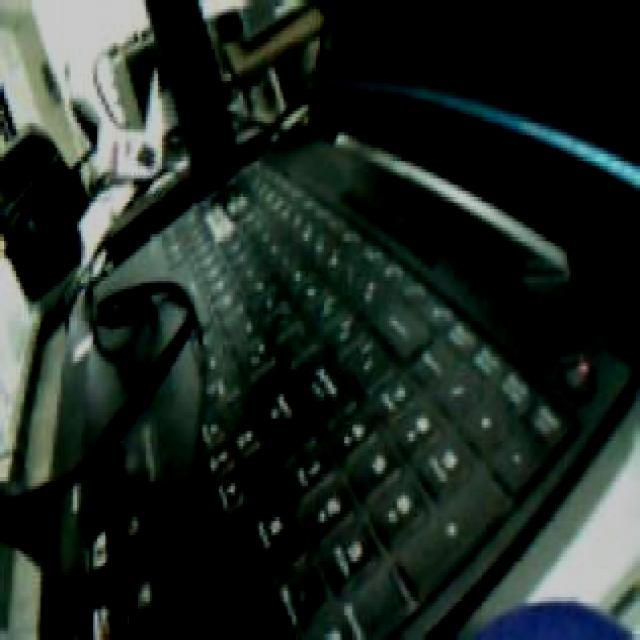BallPurple: (467, 599, 636, 640)
